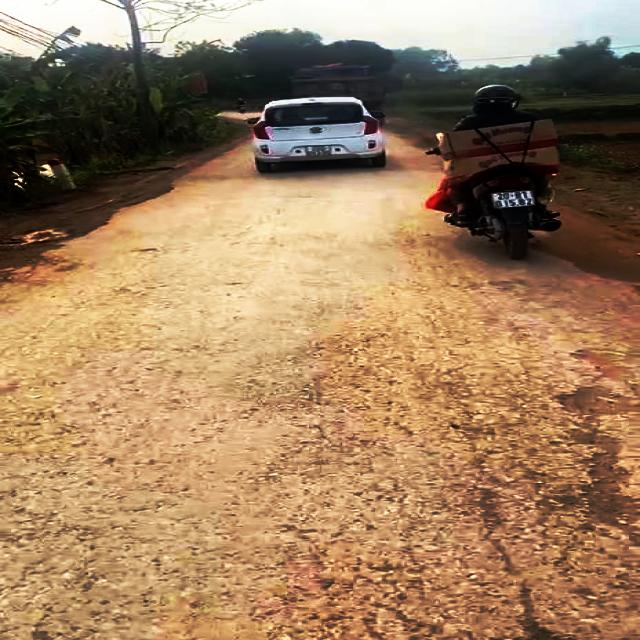pothole: (532, 343, 640, 534)
